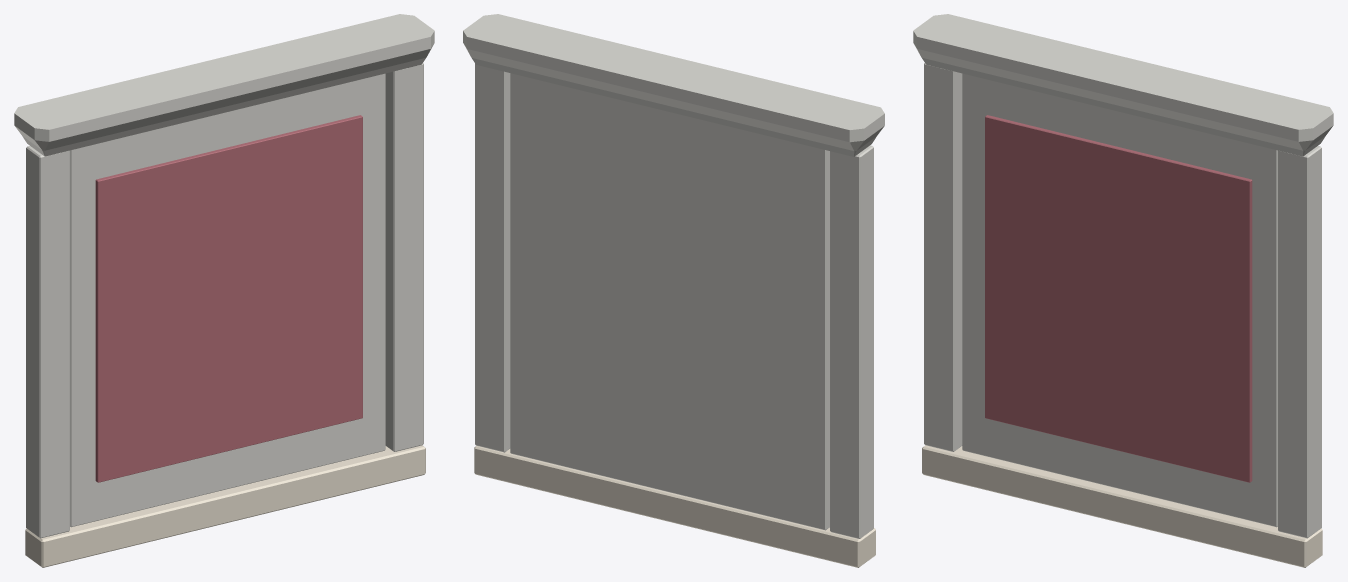
The model's file is roman-bathhouse-and-palaestra-marble-wall-panel-run-6d5e46fa__37857.glb.
The picture shows the model from 3 angles, left to right: view 1: azimuth 30°, elevation 25°; view 2: azimuth 150°, elevation 25°; view 3: azimuth 330°, elevation 25°; orthographic projection.
Visible parts, largest first — view 1: marble-wall-panel-run; view 2: marble-wall-panel-run; view 3: marble-wall-panel-run.
Part boxes in pixels (x1,y1,x2,y2): marble-wall-panel-run: (14, 14, 434, 567); marble-wall-panel-run: (463, 14, 884, 567); marble-wall-panel-run: (913, 14, 1333, 567).
Bounding box in the file's own units: 2.08 × 2.2 × 0.2801.
